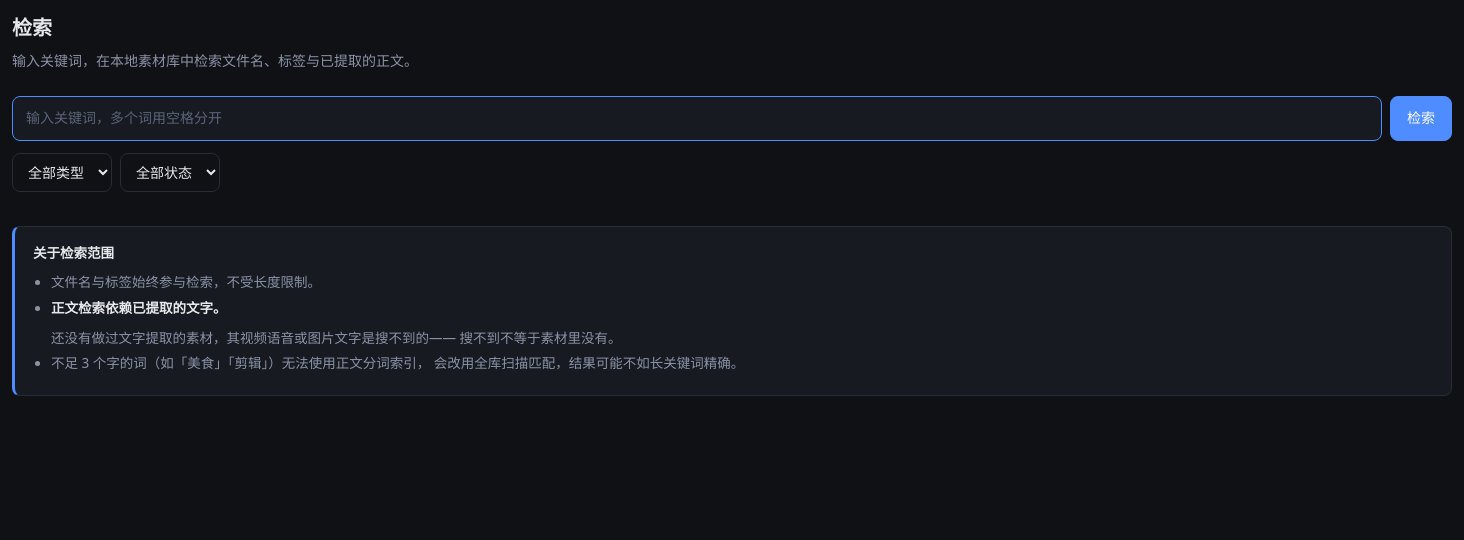
Test: 检索页 › 无命中时提示「搜不到不等于没有」，并指向文字提取
Type "火锅店" into the search field. click: (697, 119)
box: x1=12 y1=96 x2=1382 y2=141
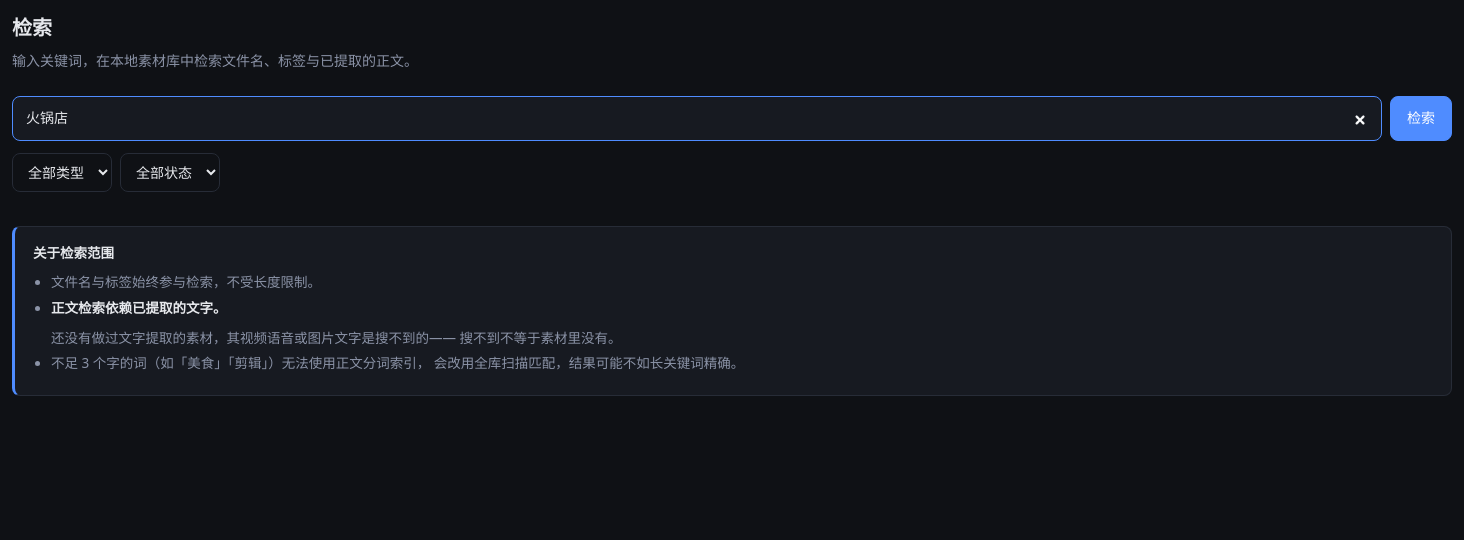
Click the button "检索". click: (1421, 119)
box: x1=1390 y1=96 x2=1452 y2=141
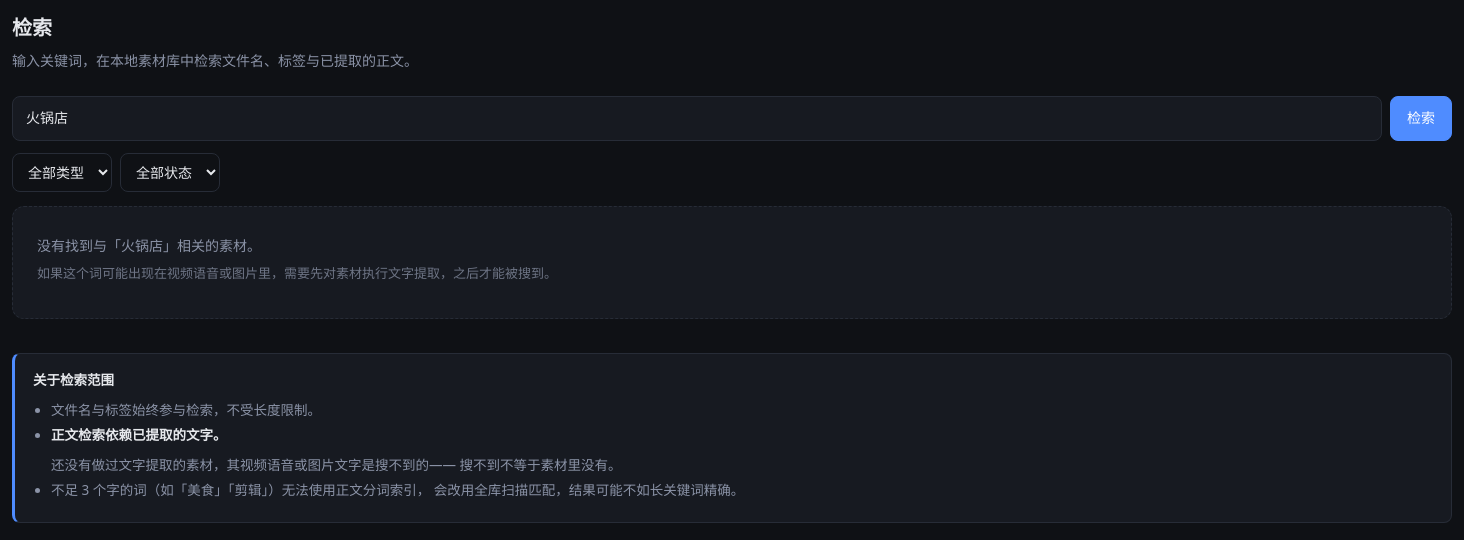
Now the text "没有找到与「火锅店」相关的素材。" is shown, box x1=37 y1=236 x2=261 y2=255
Now the text "如果这个词可能出现在视频语音或图片里，需要先对素材执行文字提取，之后才能被搜到。" is shown, box x1=37 y1=264 x2=557 y2=282
